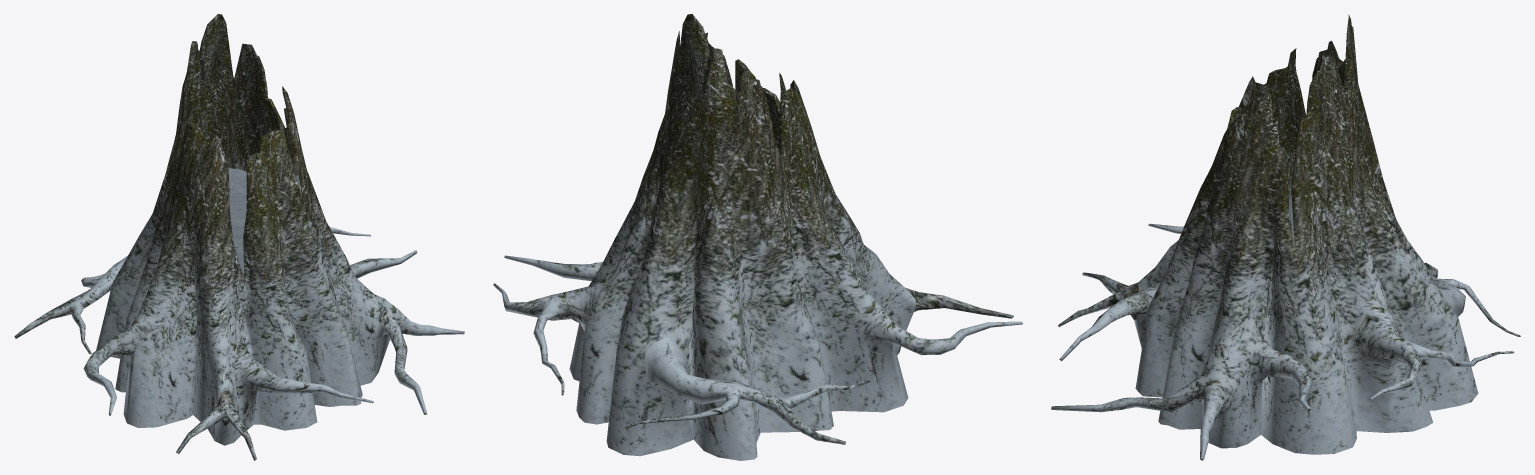
The model's file is treepineforeststump01snow-transformed.glb.
3 views of the same model, side by side, from view 1: azimuth 30°, elevation 25°; view 2: azimuth 150°, elevation 25°; view 3: azimuth 270°, elevation 25° (orthographic). The views are drawn at different scales.
Parts seen in each view (by area): view 1: default; view 2: default; view 3: default.
Part boxes in pixels (<box>): default: <box>14,14,464,460</box>; default: <box>493,14,1022,460</box>; default: <box>1051,14,1520,460</box>.
Bounding box in the file's own units: 5.77 × 4.97 × 5.58.
Materials: 2 (2 with a texture image).
